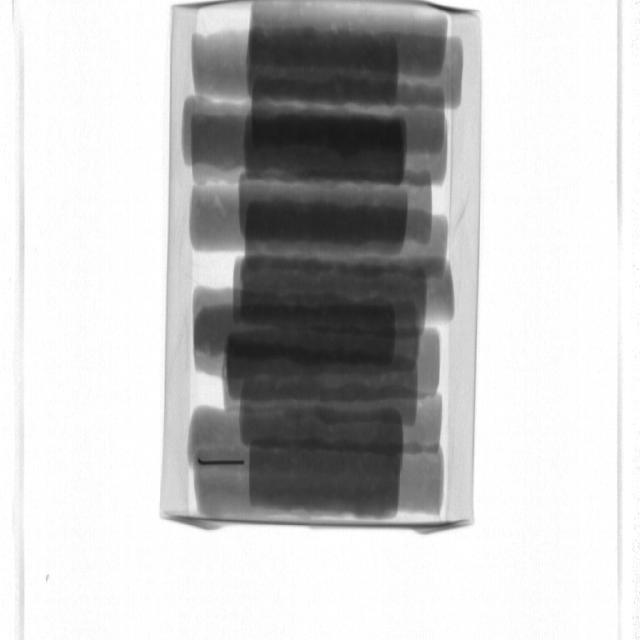ym: (196, 456, 245, 468)
